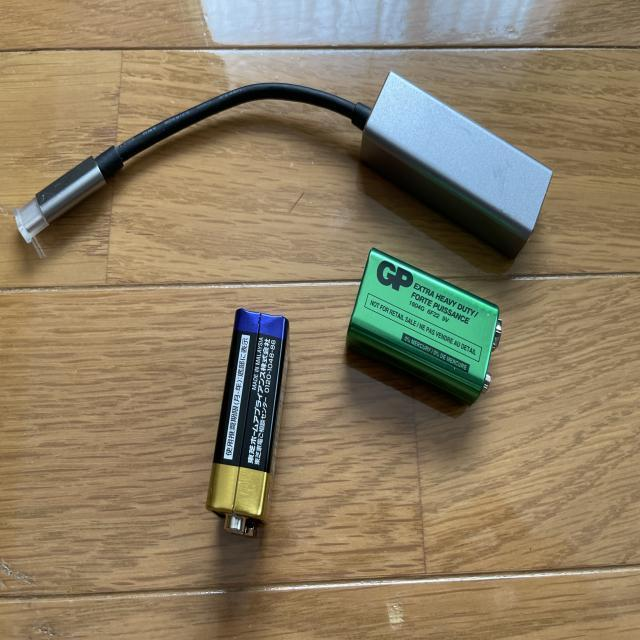9V: (344, 248, 502, 406), (206, 309, 289, 539)
